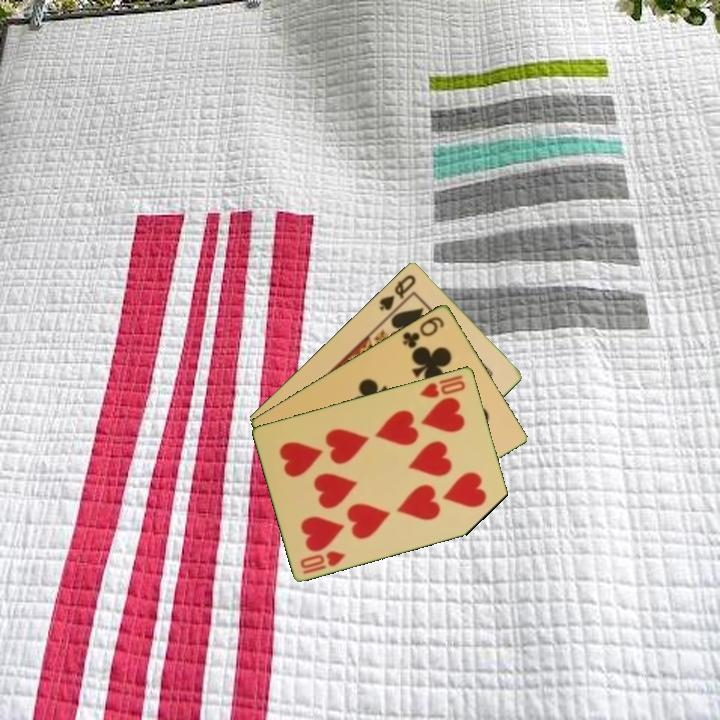10h: (416, 371, 468, 401), (297, 547, 348, 576)
6c: (399, 312, 447, 351)
Qs: (375, 271, 419, 313)
